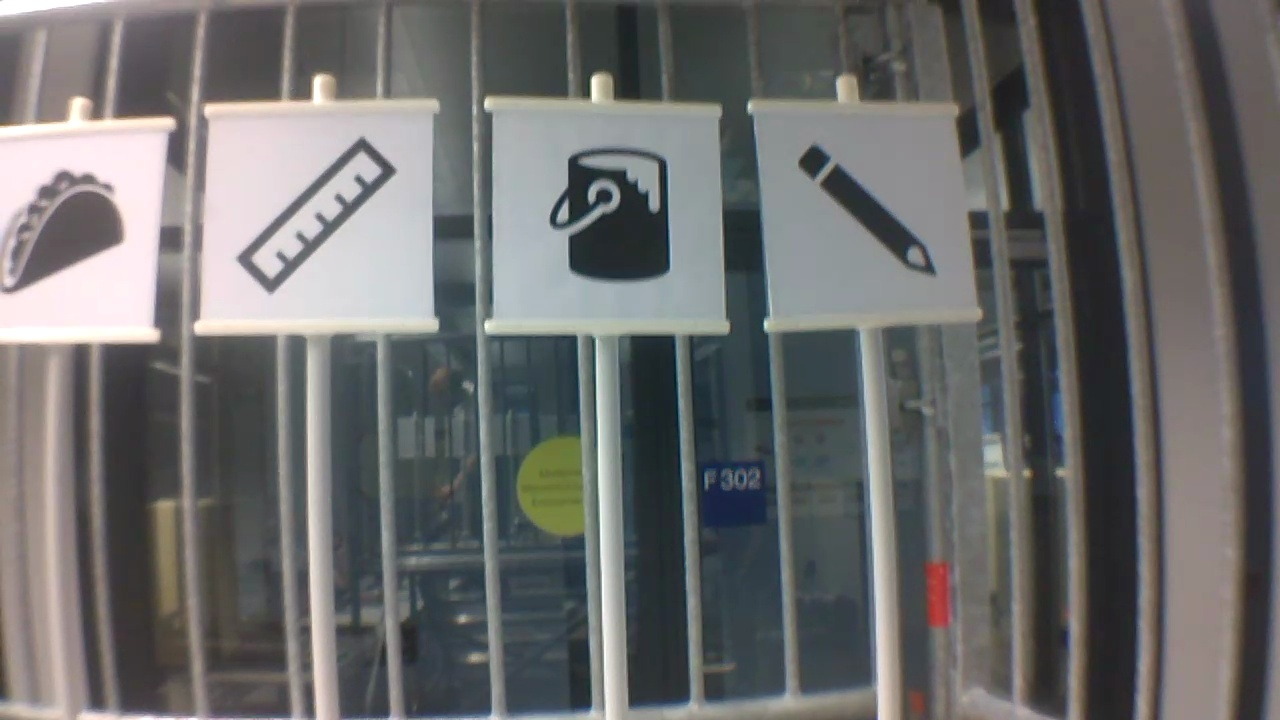bucket: (546, 144, 677, 287)
pencil: (784, 140, 946, 283)
ruler: (230, 131, 401, 298)
taco: (1, 164, 132, 296)
